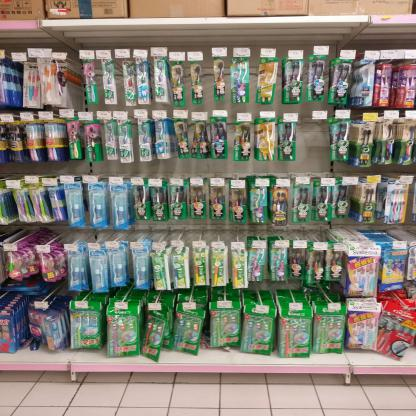Void: (300, 122, 329, 166)
